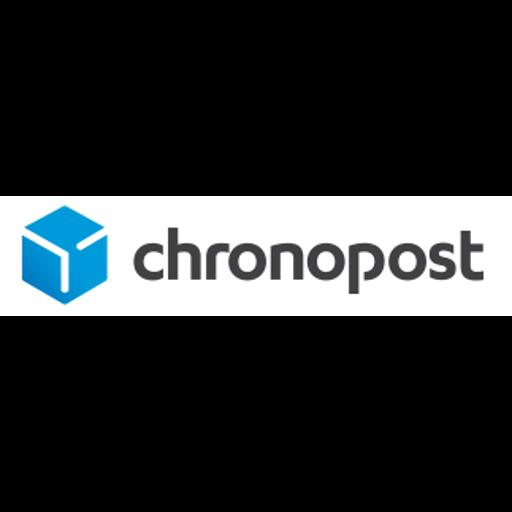Chronopost International: (0, 196, 512, 316)
